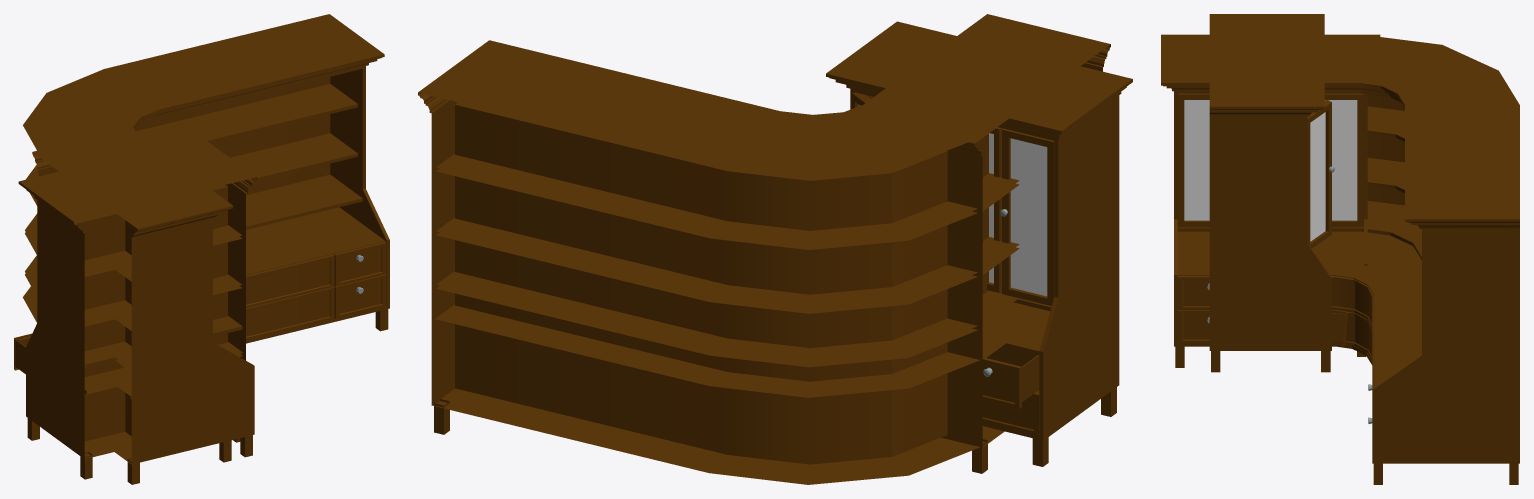
File: Cupboards.fbx
The picture shows the model from 3 angles, left to right: view 1: azimuth 30°, elevation 25°; view 2: azimuth 150°, elevation 25°; view 3: azimuth 270°, elevation 25°; orthographic projection. The views are drawn at different scales.
Visible parts, largest first — view 1: CupboardCorner, CupboardOpen, CupboardClose; view 2: CupboardCorner, CupboardOpen, CupboardClose; view 3: CupboardCorner, CupboardOpen, CupboardClose.
Part boxes in pixels (x1,y1,x2,y2): CupboardCorner: [22, 14, 389, 464]; CupboardOpen: [14, 137, 256, 479]; CupboardClose: [32, 131, 233, 484]; CupboardCorner: [418, 14, 1110, 484]; CupboardOpen: [826, 21, 1132, 466]; CupboardClose: [851, 14, 1110, 473]; CupboardCorner: [1161, 34, 1519, 484]; CupboardOpen: [1209, 14, 1348, 372]; CupboardClose: [1161, 34, 1380, 356].
Bounding box in the file's own units: 380 × 234 × 281.
